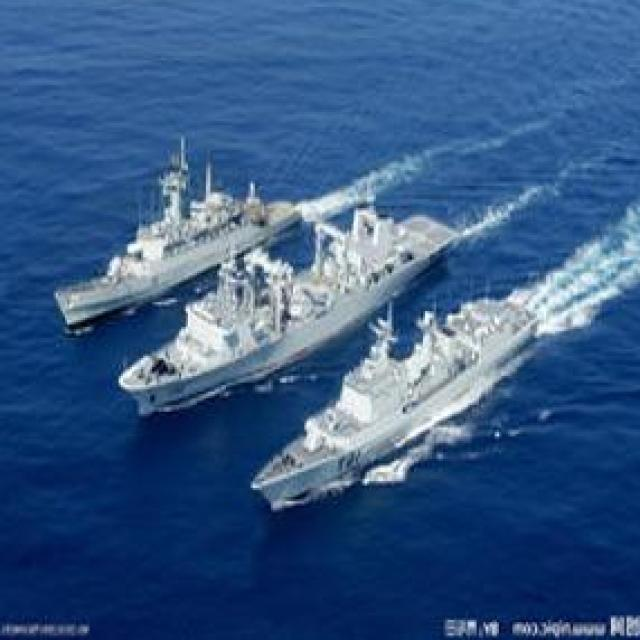navalvessels: (128, 207, 454, 411), (258, 286, 542, 510), (56, 144, 297, 328)
